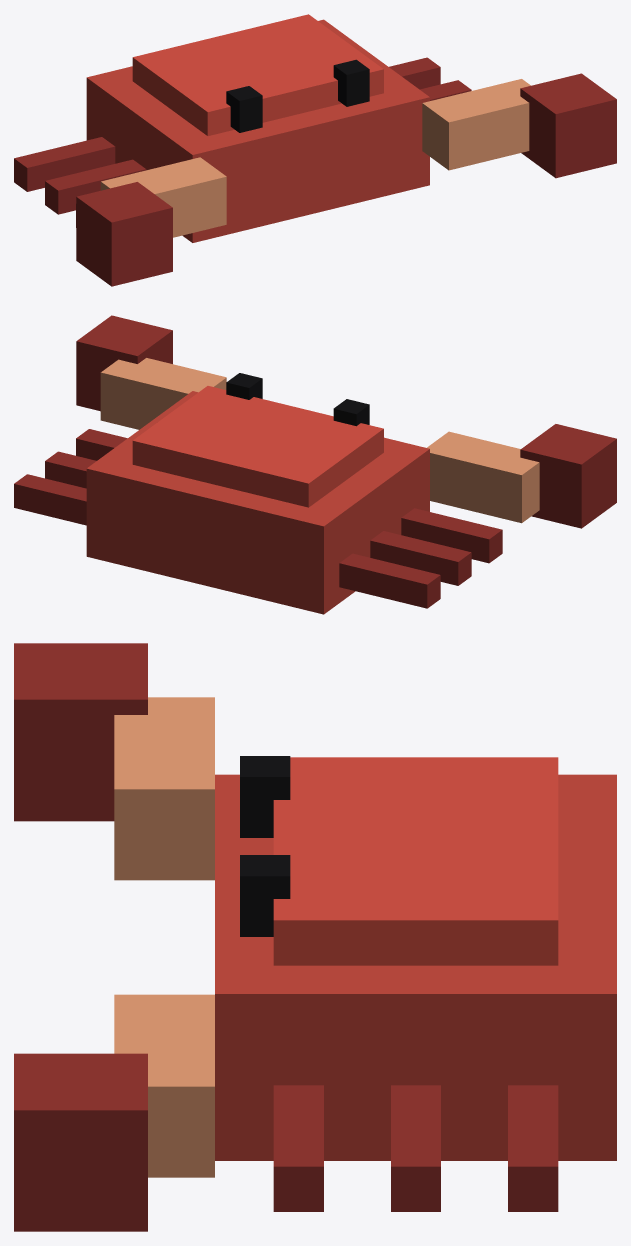
Rendered from KingCrab.obj.
The picture shows the model from 3 angles, top to bottom: view 1: azimuth 30°, elevation 25°; view 2: azimuth 150°, elevation 25°; view 3: azimuth 270°, elevation 25°; orthographic projection. The views are drawn at different scales.
Visible parts, largest first — view 1: KingCrab; view 2: KingCrab; view 3: KingCrab.
Part boxes in pixels (x1,y1,x2,y2): KingCrab: [14, 14, 616, 286]; KingCrab: [14, 315, 616, 614]; KingCrab: [14, 643, 616, 1231].
Bounding box in the file's own units: 1.32 × 0.31 × 0.72.
1 material, 1 textured.
